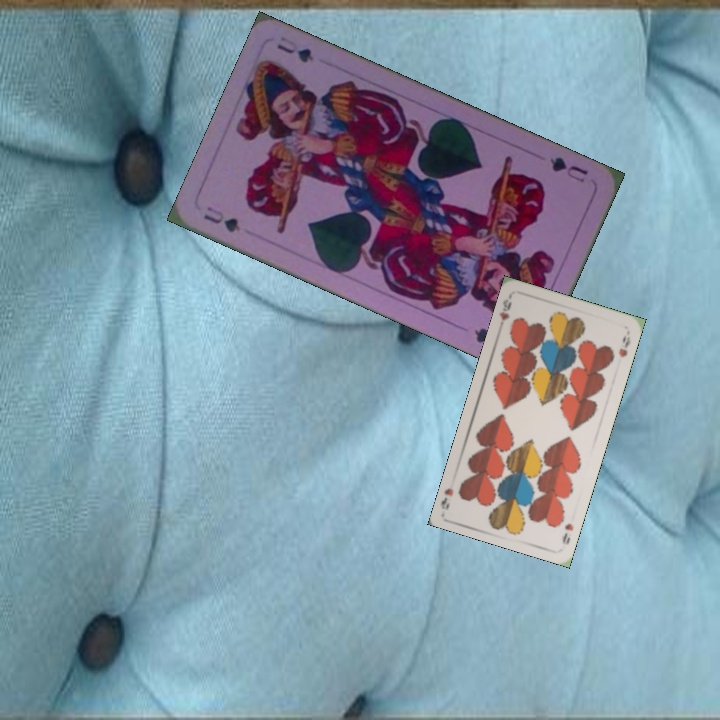GU: (199, 202, 243, 235), (545, 153, 590, 185)
H9: (495, 295, 514, 332), (558, 519, 576, 547)
